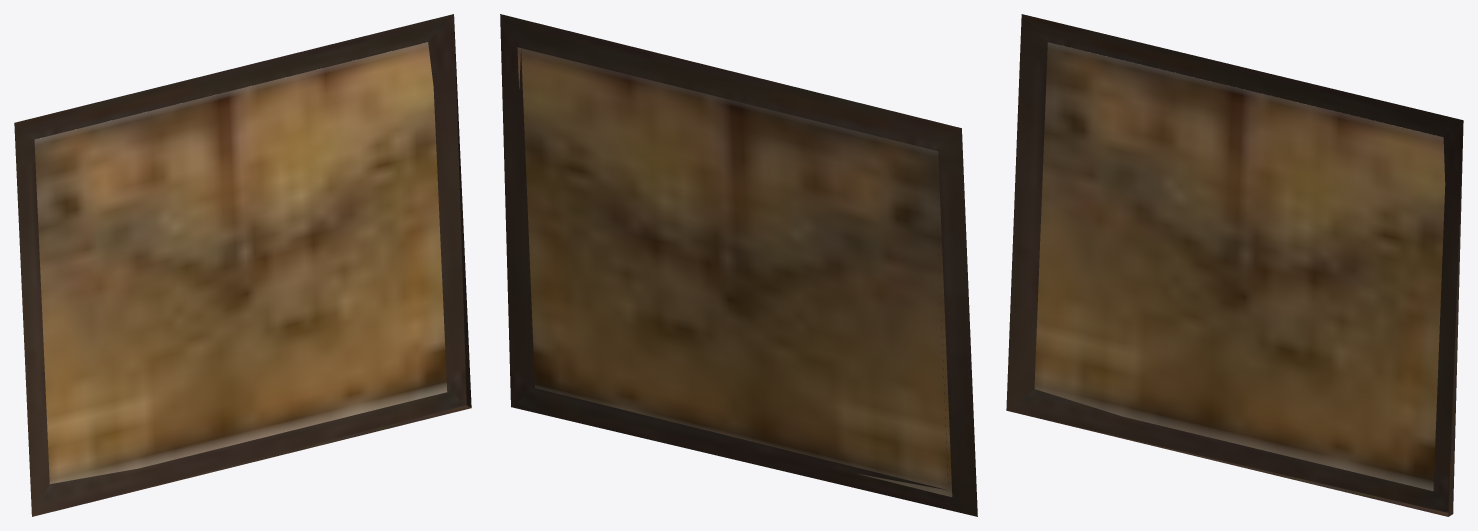
Rendered from map-picture-2.lod1.glb.
3 renders of one model, left to right at view 1: azimuth 30°, elevation 25°; view 2: azimuth 150°, elevation 25°; view 3: azimuth 330°, elevation 25°, orthographic. The views are drawn at different scales.
Parts seen in each view (by area): view 1: map-picture-2; view 2: map-picture-2; view 3: map-picture-2.
Part boxes in pixels (bbox=[...]): map-picture-2: bbox=[14, 14, 471, 516]; map-picture-2: bbox=[500, 14, 977, 516]; map-picture-2: bbox=[1006, 14, 1463, 516].
Size of the model in its own units: 0.2887 by 0.2402 by 0.022.
1 material, 1 textured.
